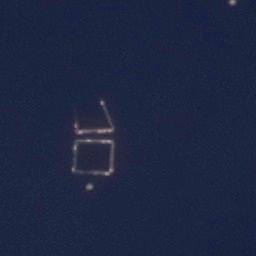square_solid: (69, 135, 117, 178), (67, 97, 116, 138)
